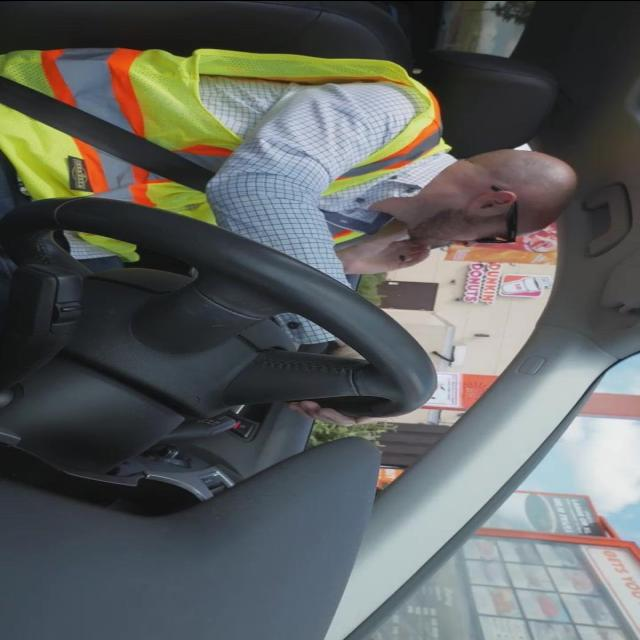jacket: (1, 39, 434, 271)
